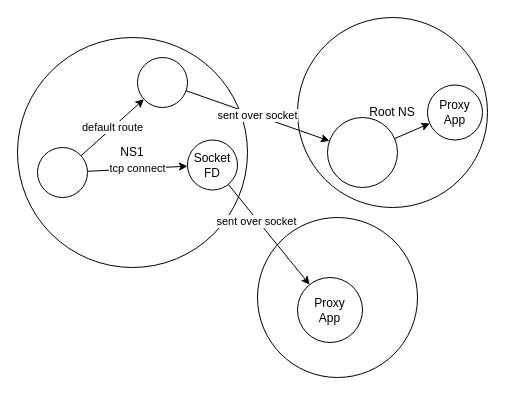
The diagram is 505 pixels wide and 395 high, and some of its shapes have lost their labels. Here are the shapes that lost their labels. From the top down, the centre of each, then its label:
At point (162, 82): "TUN FD".
At point (62, 172): "App".
At point (362, 152): "TUN2Proxy".
